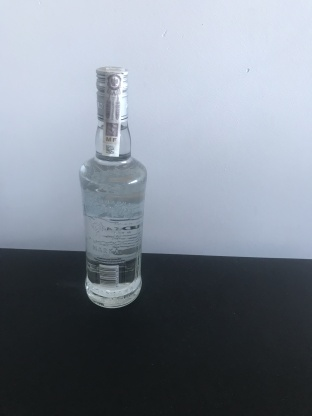nakretka: (93, 63, 131, 124)
